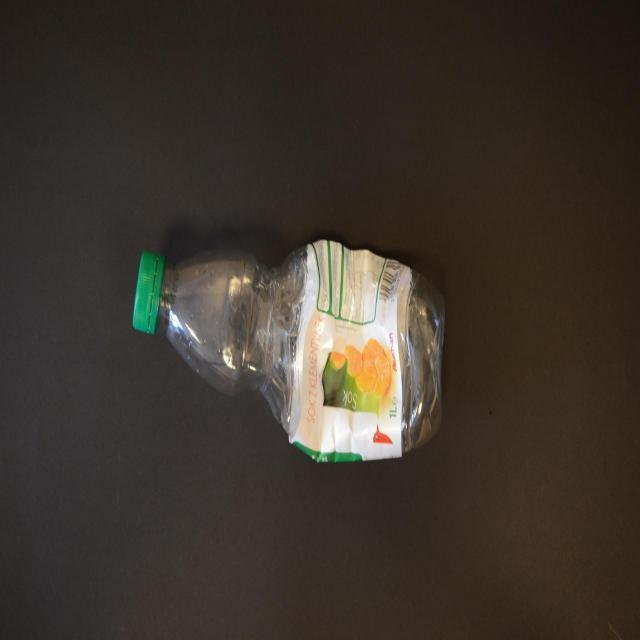plastic_bottle: (132, 240, 446, 463)
